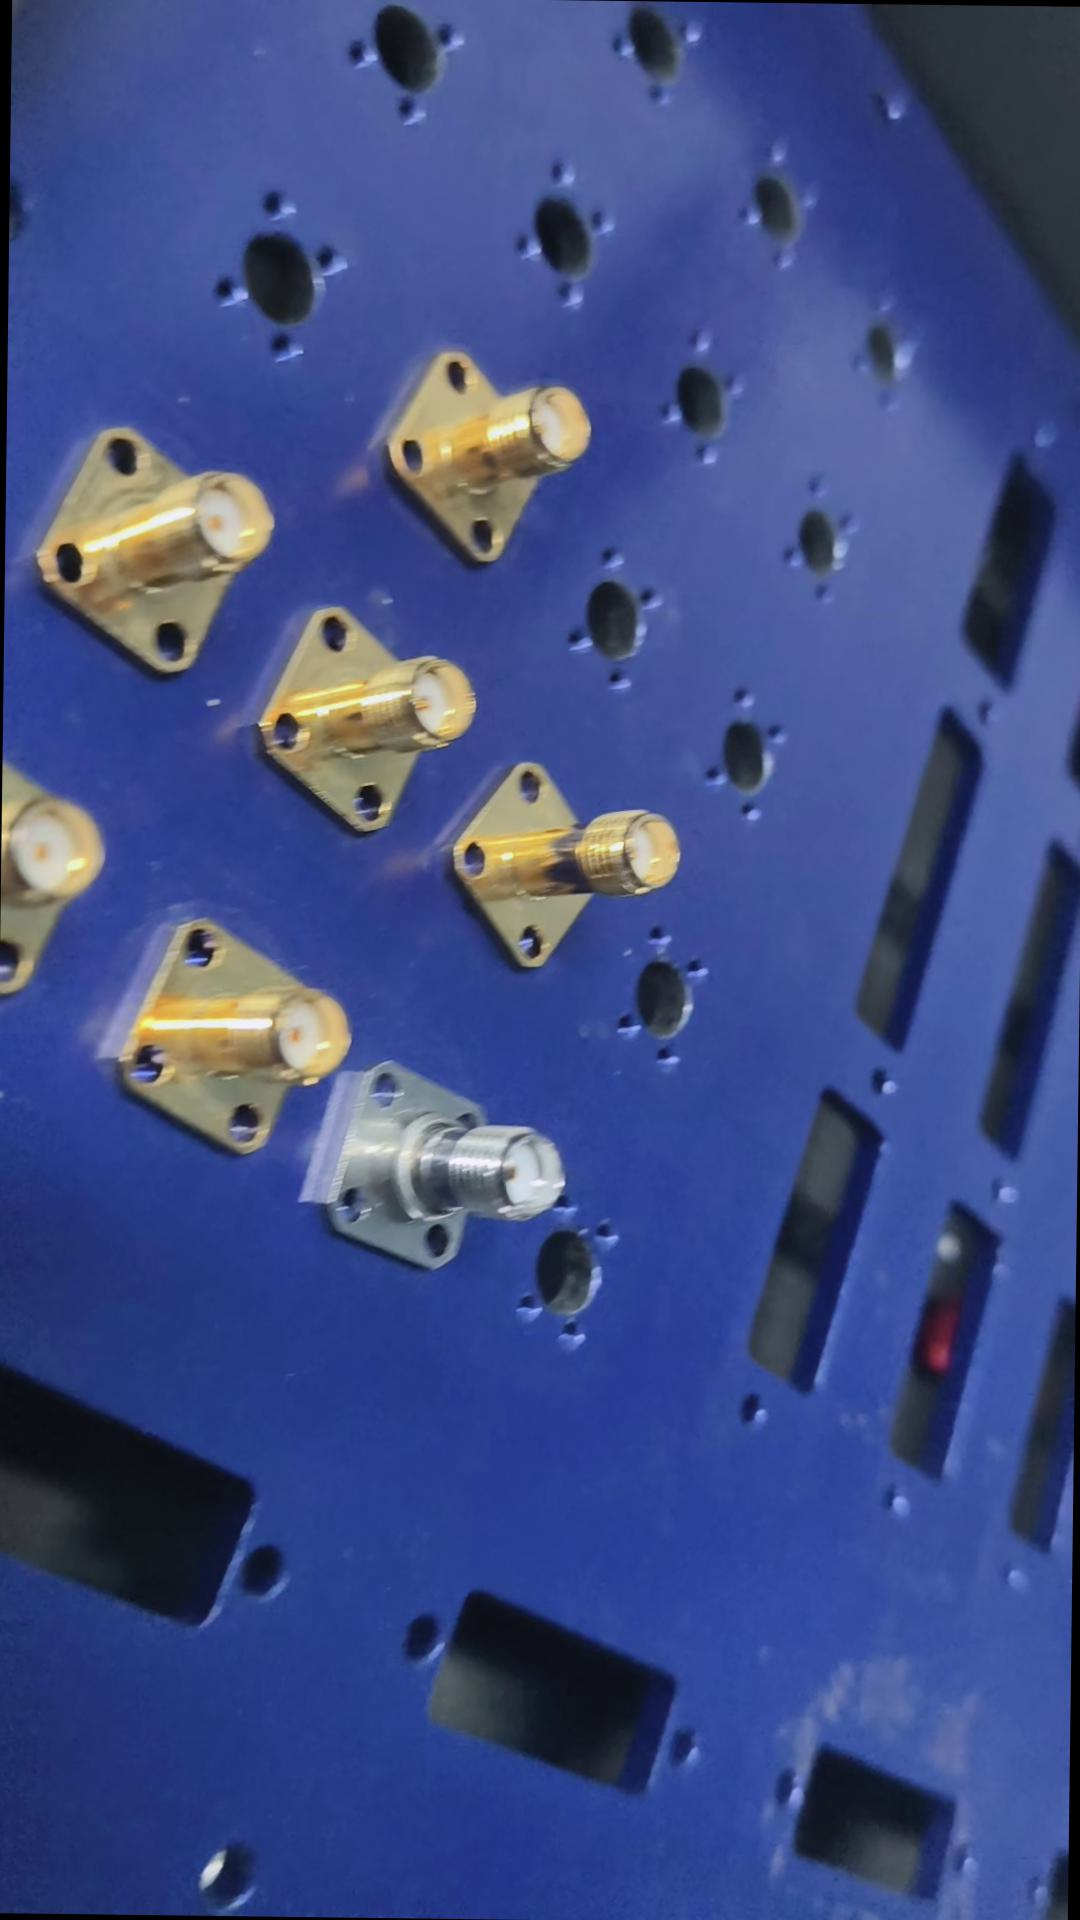SMA: (40, 421, 287, 678), (311, 1033, 570, 1273), (127, 913, 361, 1174), (454, 724, 679, 975), (382, 326, 597, 568), (262, 603, 479, 837)
